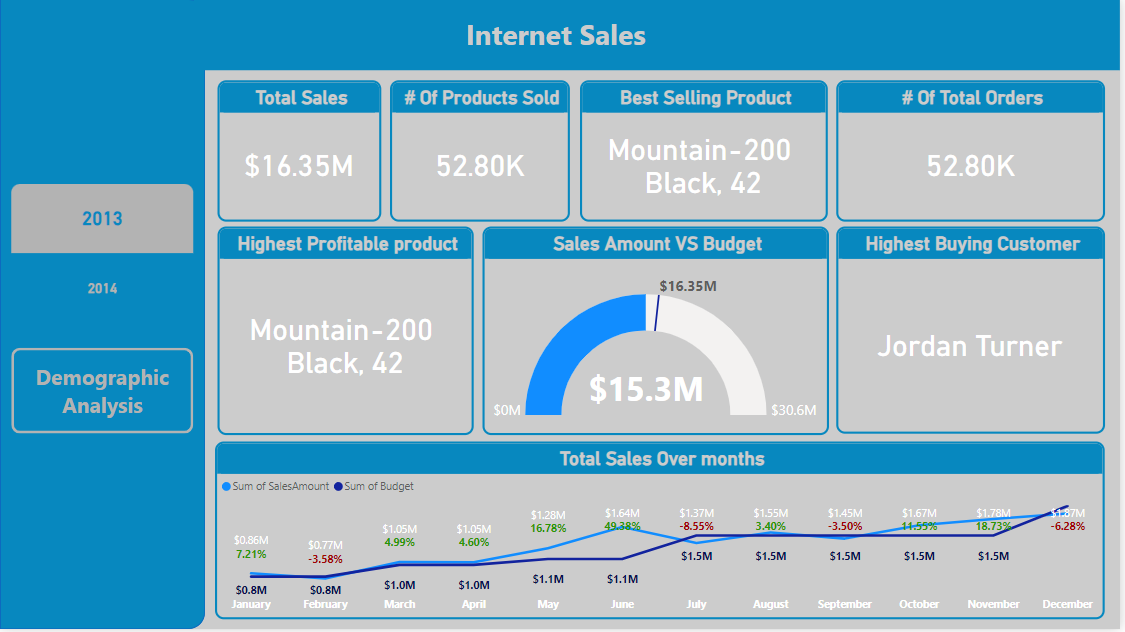

The dashboard page shown, as its layout file describes it:
{"tool":"powerbi","page":{"name":"Main Report","canvas":[1280,720],"ordinal":0},"visuals":[{"type":"group","id":"g1","title":"Group 1","box":[0,0,1280,720],"z":0},{"type":"shape","box":[0,0,234.3,720],"z":0,"group":"g1"},{"type":"card","title":"Total Sales","fields":{"Values":["FactInternetSales.SalesAmount"]},"box":[248.6,93.3,187.1,161.4],"z":1000},{"type":"card","title":"# Of Products Sold","fields":{"Values":["FactInternetSales.ProductKey"]},"box":[446.2,93.3,205.7,161.4],"z":2000},{"type":"lineChart","title":"Total Sales Over months","fields":{"Y":["FactInternetSales.SalesAmount","Budget.Budget"],"Category":["Budget.Month"]},"box":[245.7,505.7,1017.1,202.9],"z":3000},{"type":"advancedSlicerVisual","fields":{"Values":["FactInternetSales.OrderDate.Variation.Date Hierarchy.Year"]},"box":[12.9,211.4,208.6,158.6],"z":4000},{"type":"gauge","title":"Sales Amount VS Budget","fields":{"Y":["Budget.Budget"],"TargetValue":["FactInternetSales.SalesAmount"]},"box":[550.8,259.8,395.7,238.6],"z":5000},{"type":"card","title":"Best Selling Product","fields":{"Values":["DimProduct.EnglishProductName"]},"box":[662.4,93.3,282.9,161.4],"z":6000},{"type":"card","title":"Highest Buying Customer ","fields":{"Values":["DimCustomer.Full Name"]},"box":[955.7,260,307.1,237.1],"z":7000},{"type":"card","title":"Highest Profitable product","fields":{"Values":["DimProduct.EnglishProductName"]},"box":[248.7,259.8,292.9,238.6],"z":8000},{"type":"pageNavigator","box":[12.9,398.6,208.6,98.6],"z":9000},{"type":"shape","box":[221.4,0,1058.6,81.4],"z":9001,"group":"g1"},{"type":"textbox","box":[527.1,12.9,227.1,55.7],"z":10000},{"type":"card","title":"# Of Total Orders","fields":{"Values":["FactInternetSales.SalesOrderNumber"]},"box":[955.7,92.9,307.1,161.4],"z":11000}]}

Visuals, with their boxes in screenshot pixels (x1, y1, x2, y2), scaled from the page's 1280x720 canvas onto the 1125x632 screenshot:
"Group 1" group: <region>0, 0, 1124, 631</region>
shape: <region>0, 0, 206, 631</region>
"Total Sales" card: <region>218, 82, 383, 224</region>
"# Of Products Sold" card: <region>392, 82, 573, 224</region>
"Total Sales Over months" lineChart: <region>216, 444, 1110, 622</region>
advancedSlicerVisual - FactInternetSales.OrderDate.Variation.Date Hierarchy.Year: <region>11, 186, 195, 325</region>
"Sales Amount VS Budget" gauge: <region>484, 228, 832, 437</region>
"Best Selling Product" card: <region>582, 82, 831, 224</region>
"Highest Buying Customer " card: <region>840, 228, 1110, 436</region>
"Highest Profitable product" card: <region>219, 228, 476, 437</region>
pageNavigator: <region>11, 350, 195, 436</region>
shape: <region>195, 0, 1124, 71</region>
textbox: <region>463, 11, 663, 60</region>
"# Of Total Orders" card: <region>840, 82, 1110, 223</region>
